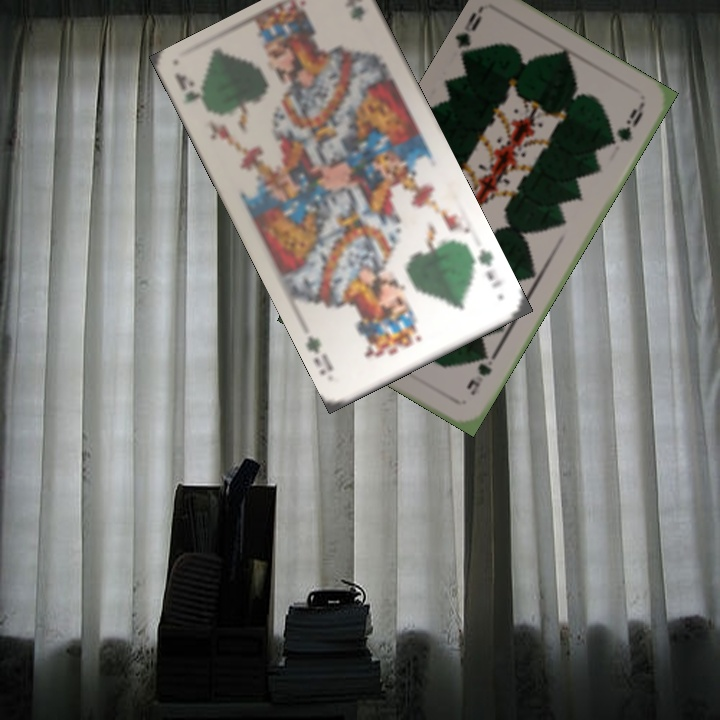G9: (453, 4, 486, 63), (462, 348, 499, 398)
GK: (171, 70, 216, 118), (465, 245, 505, 291)
